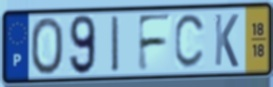9: (67, 13, 99, 77)
C: (173, 12, 207, 72)
F: (136, 12, 174, 74)
I: (110, 14, 121, 75)
K: (213, 12, 240, 70)
O: (29, 16, 65, 77)
